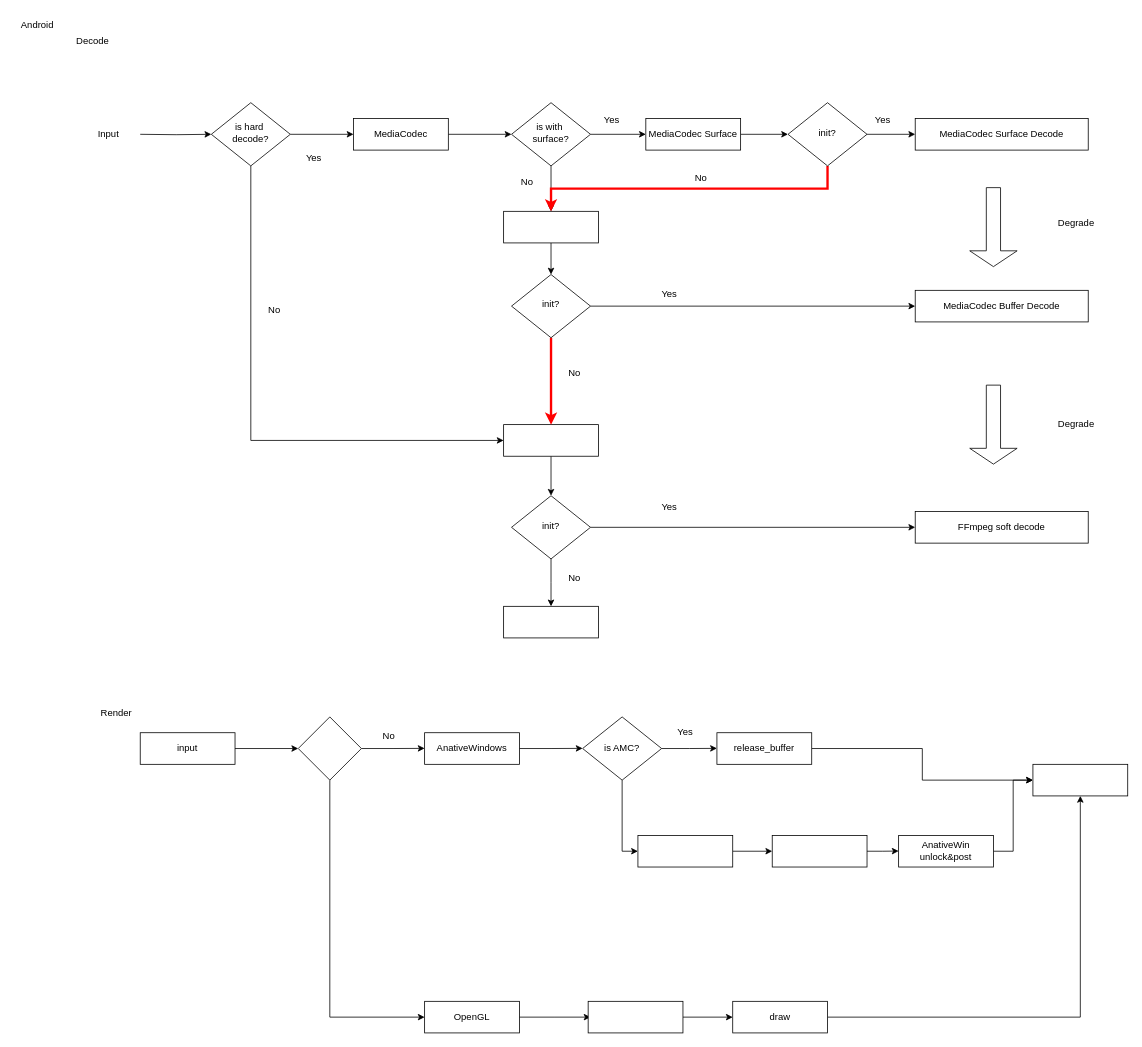
The diagram is 1142 pixels wide and 1047 high, and some of its shapes have lost their labels. The shapes that lost their labels are listed below. From the top down, each one's centre as x and y in pixels, then its label:
pixel 550 227: MediaCodec Buffer
pixel 550 440: FFmpeg decode
pixel 550 622: Decode Failed
pixel 329 748: is after process
pixel 1080 780: 上屏
pixel 685 851: AnativeWin lock
pixel 819 851: data copy
pixel 635 1017: Filters
